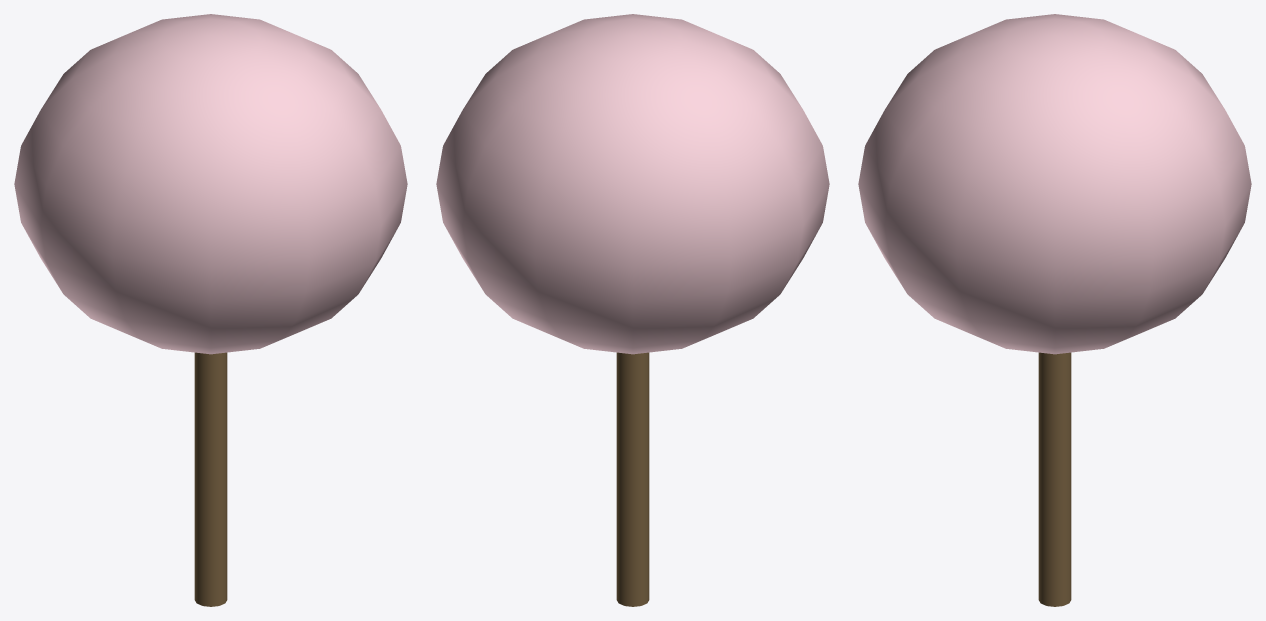
The model's file is env-mod-cherry.glb.
3 renders of one model, left to right at view 1: azimuth 30°, elevation 25°; view 2: azimuth 150°, elevation 25°; view 3: azimuth 270°, elevation 25°, orthographic.
Size of the model in its own units: 3 by 4.75 by 3.
